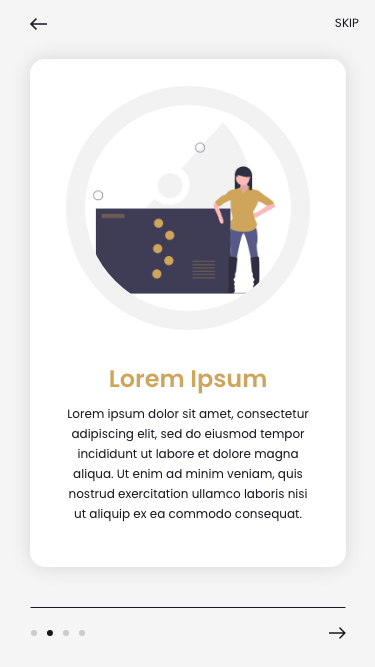Card: (30, 58, 348, 568)
Icon: (329, 626, 347, 640), (30, 18, 48, 31)
Image: (66, 86, 311, 331)
PageIndicator: (31, 628, 87, 637)
Text: (68, 408, 309, 522), (109, 369, 267, 395), (335, 18, 359, 29)
